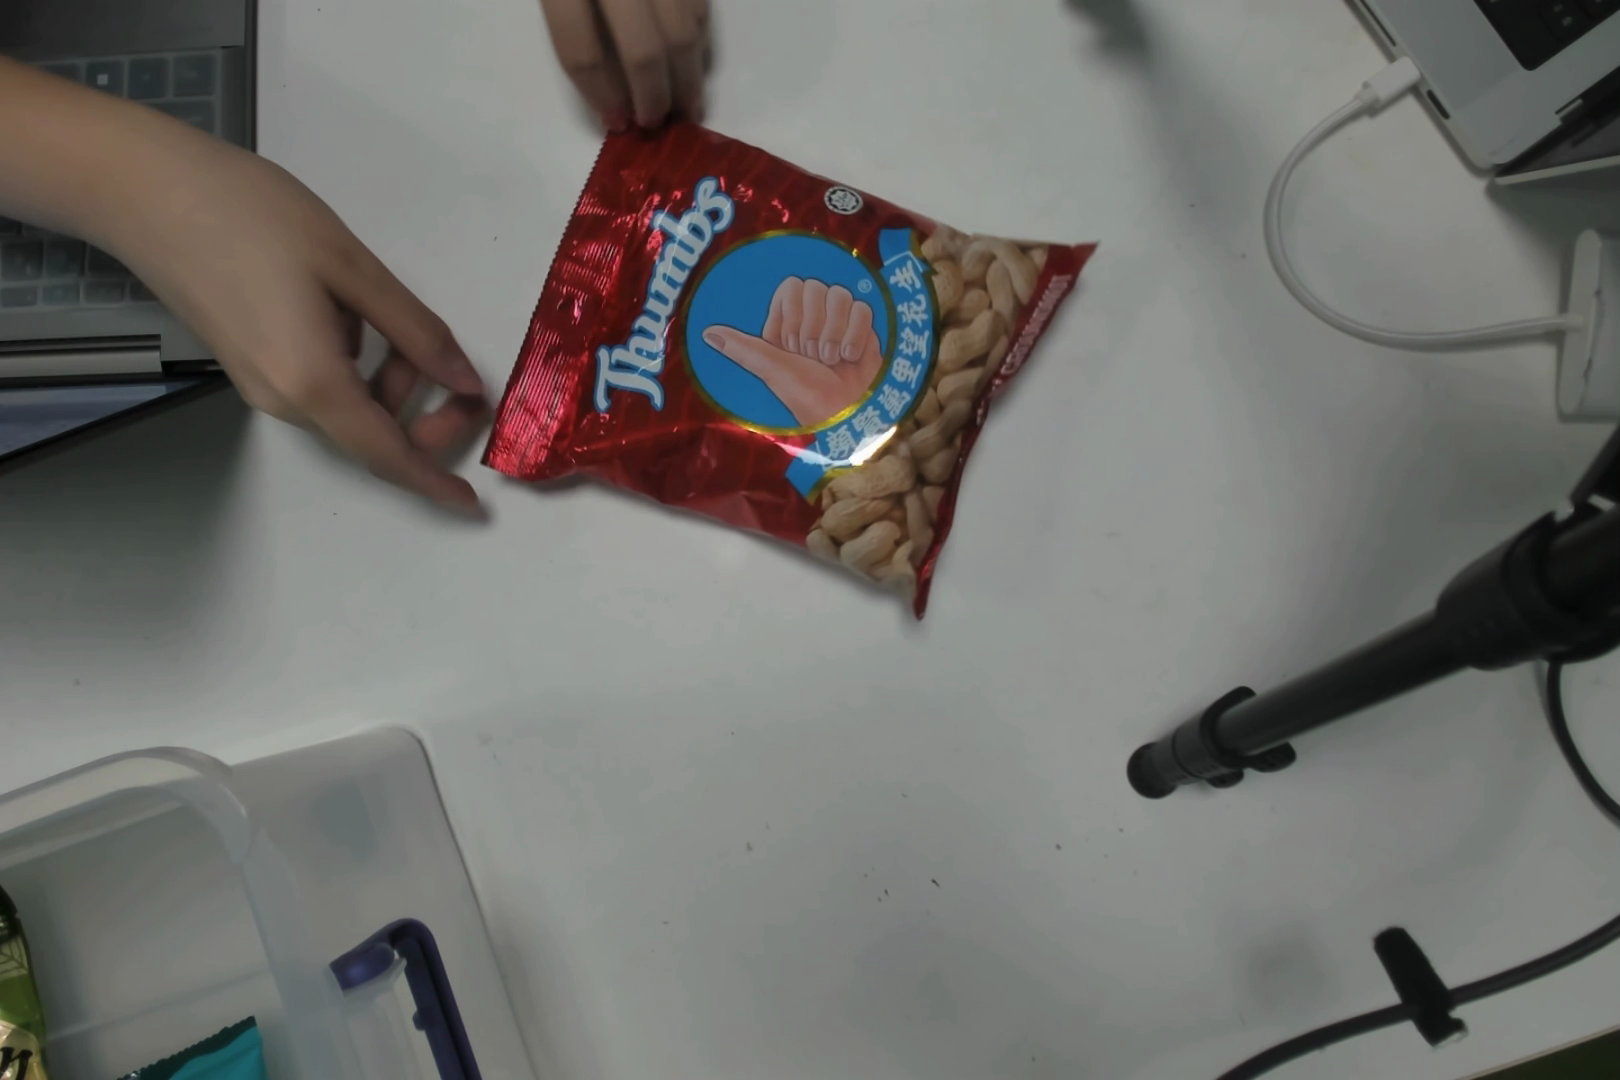Nuts_100-199g_Halal_NonHealthy: (568, 137, 1038, 597)
